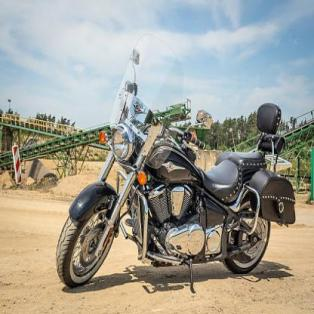Motocicleta: (52, 44, 294, 292)
